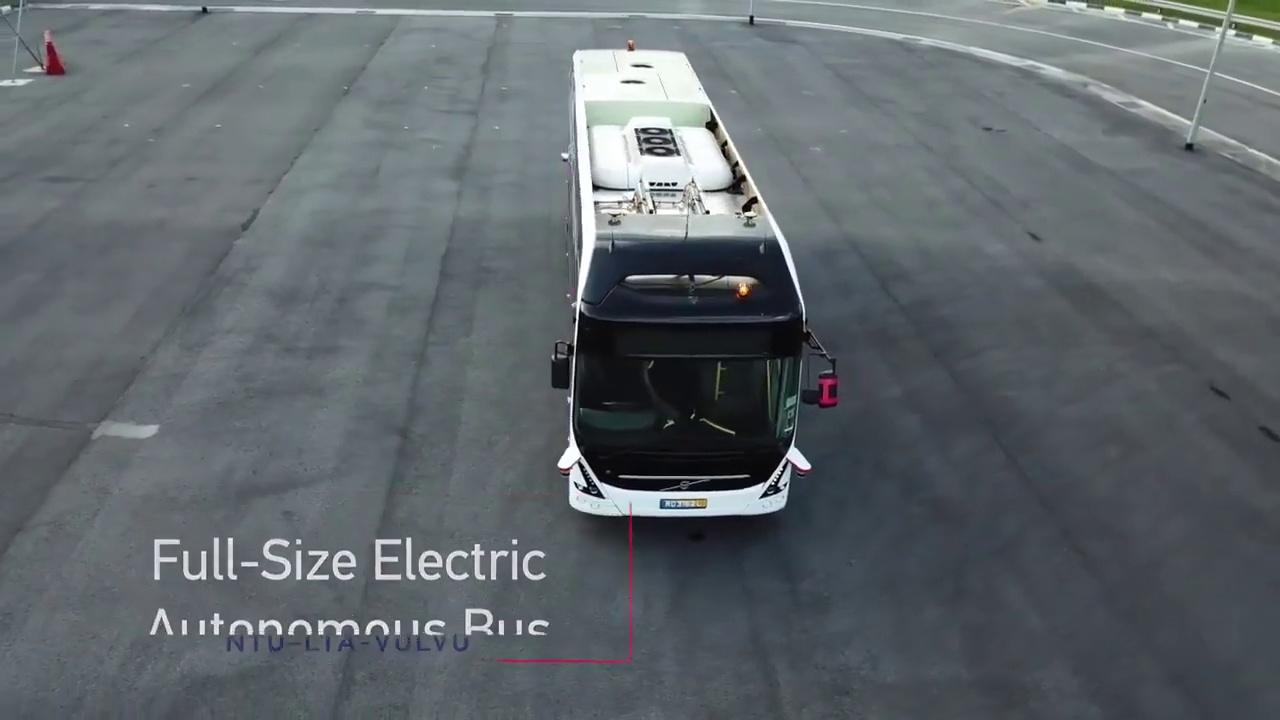Bus: (550, 41, 839, 519)
